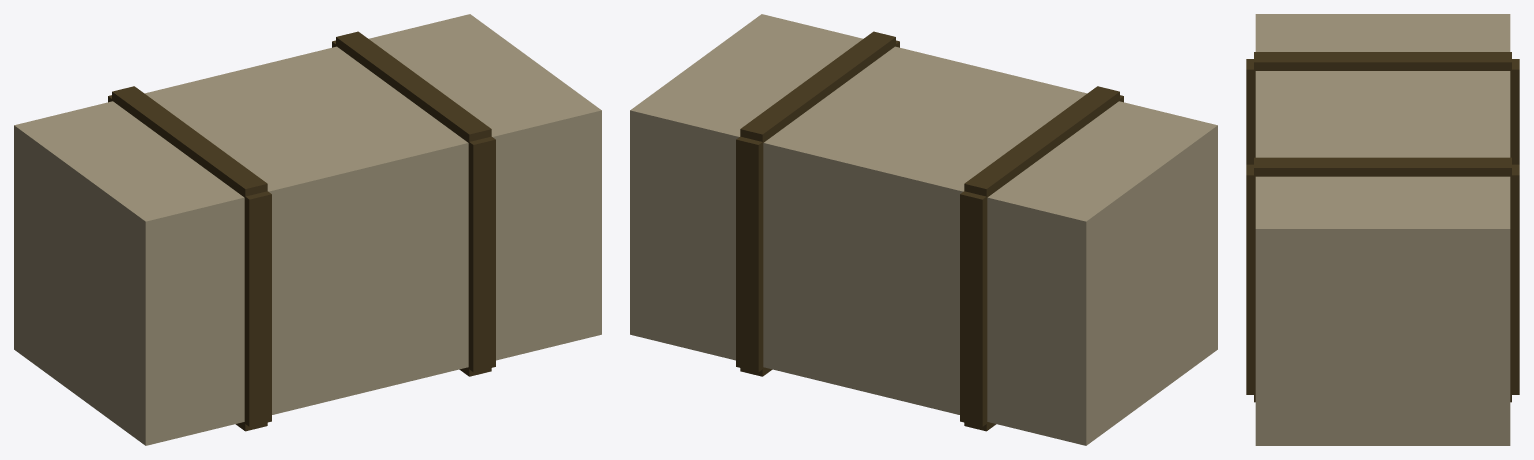
Rendered from WoolFleece.glb.
3 renders of one model, left to right at view 1: azimuth 30°, elevation 25°; view 2: azimuth 150°, elevation 25°; view 3: azimuth 270°, elevation 25°, orthographic. The views are drawn at different scales.
Visible parts, largest first — view 1: WoolFleece; view 2: WoolFleece; view 3: WoolFleece.
Part boxes in pixels (left/top/right/bottom): WoolFleece: left=14, top=14, right=601, bottom=445; WoolFleece: left=630, top=14, right=1217, bottom=445; WoolFleece: left=1246, top=14, right=1519, bottom=445.
Bounding box in the file's own units: 0.448 × 0.2274 × 0.2408.
